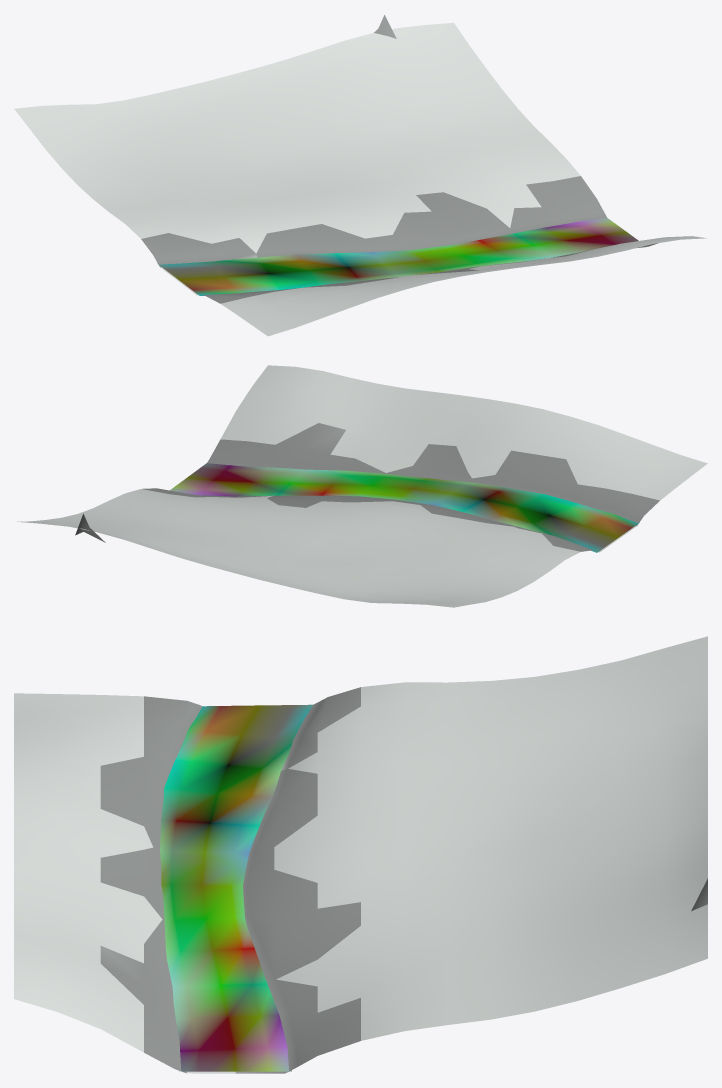
3 views of the same model, one above another, from view 1: azimuth 30°, elevation 25°; view 2: azimuth 150°, elevation 25°; view 3: azimuth 270°, elevation 25° (orthographic). The views are drawn at different scales.
Visible parts, largest first — view 1: G:\FFXIV-MapTools\exports\r1f1\bg\ffxiv\roc_r1\fld\r1f1\bgpl (×5); view 2: G:\FFXIV-MapTools\exports\r1f1\bg\ffxiv\roc_r1\fld\r1f1\bgpl (×6); view 3: G:\FFXIV-MapTools\exports\r1f1\bg\ffxiv\roc_r1\fld\r1f1\bgpl (×6).
Part boxes in pixels (box(x1,y1,x2,y2)): G:\FFXIV-MapTools\exports\r1f1\bg\ffxiv\roc_r1\fld\r1f1\bgpl (×5): box(14, 22, 706, 336); G:\FFXIV-MapTools\exports\r1f1\bg\ffxiv\roc_r1\fld\r1f1\bgpl (×6): box(17, 365, 707, 607); G:\FFXIV-MapTools\exports\r1f1\bg\ffxiv\roc_r1\fld\r1f1\bgpl (×6): box(14, 636, 707, 1073).
Bounding box in the file's own units: 128 × 30.41 × 128.
